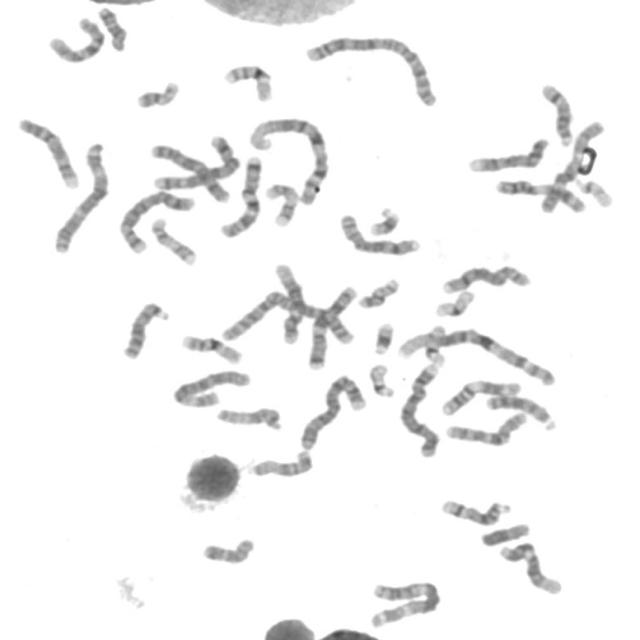A1: (391, 323, 561, 387), (243, 110, 333, 206)
A2: (300, 29, 441, 108), (217, 287, 360, 347)
A3: (48, 137, 111, 254), (364, 575, 443, 630)
B4: (294, 370, 369, 452), (395, 358, 444, 459)
B5: (113, 186, 198, 256), (148, 132, 238, 194)
C10: (440, 407, 530, 448), (43, 11, 108, 65)
C11: (491, 175, 590, 215), (436, 375, 524, 417)
C12: (495, 538, 565, 596), (270, 258, 308, 346)
C6: (535, 117, 607, 214), (169, 365, 253, 410)
C7: (302, 280, 361, 372), (215, 151, 265, 239)
C8: (335, 209, 423, 258), (436, 259, 533, 296)
C9: (12, 113, 82, 190), (464, 133, 552, 174)
D13: (117, 298, 172, 362), (481, 389, 560, 432)
D14: (536, 78, 577, 148), (437, 494, 513, 527)
D15: (247, 446, 316, 480), (212, 402, 286, 432)
E16: (218, 60, 275, 104), (177, 330, 245, 366)
E17: (146, 212, 199, 268), (261, 178, 301, 228)
E18: (197, 534, 257, 566), (92, 2, 130, 52)
F19: (430, 285, 477, 319), (421, 320, 448, 367)
F20: (353, 273, 401, 310), (132, 76, 182, 110)
G21: (364, 203, 402, 237), (368, 316, 396, 356)
G22: (571, 173, 616, 209), (365, 359, 397, 399)
X: (535, 117, 607, 214), (146, 139, 234, 204)
Y: (475, 518, 532, 548)
